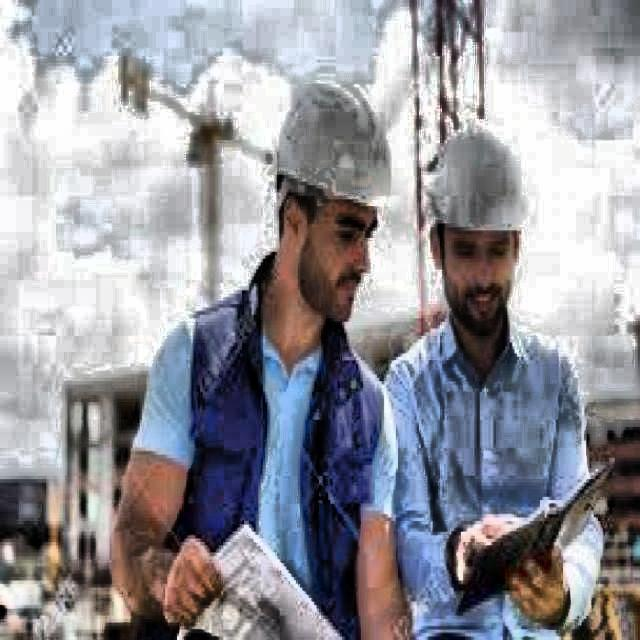bull_dozer/loader/grader: (115, 52, 275, 308)
person: (106, 77, 407, 640), (385, 127, 605, 640)
